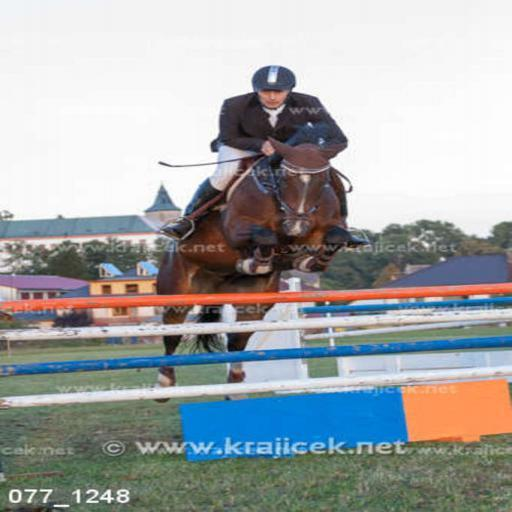horse: (152, 135, 354, 403)
